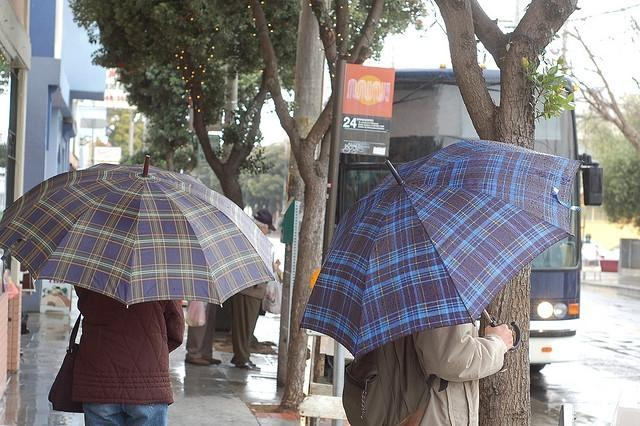bus: (339, 65, 605, 378)
